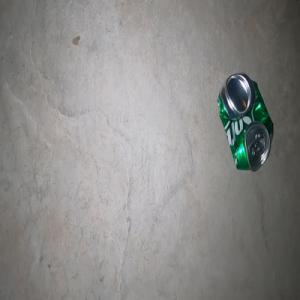SodaCan: (217, 72, 273, 171)
